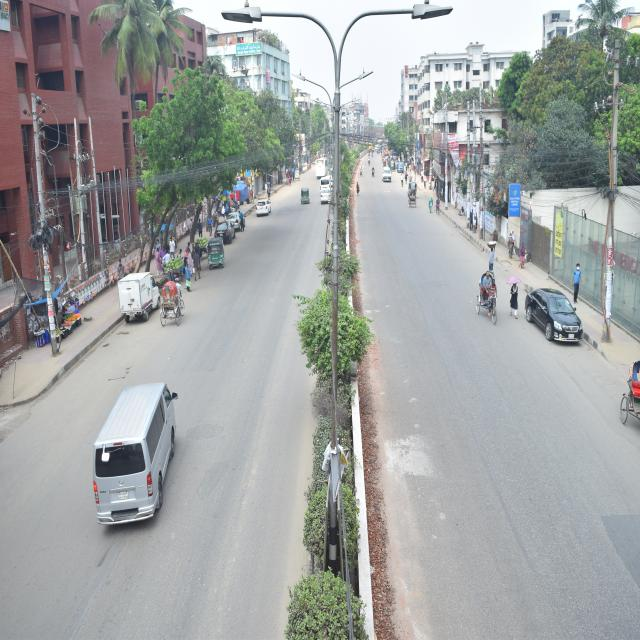bus: (312, 153, 339, 184)
car: (514, 266, 598, 374), (212, 213, 242, 269), (252, 186, 283, 240), (221, 205, 253, 245), (378, 156, 396, 202)
microbus: (54, 337, 245, 553), (314, 173, 341, 210)
motorbike: (356, 162, 367, 189), (368, 160, 379, 182), (366, 154, 374, 168)
pickup-van: (112, 254, 161, 327), (392, 153, 410, 184)
